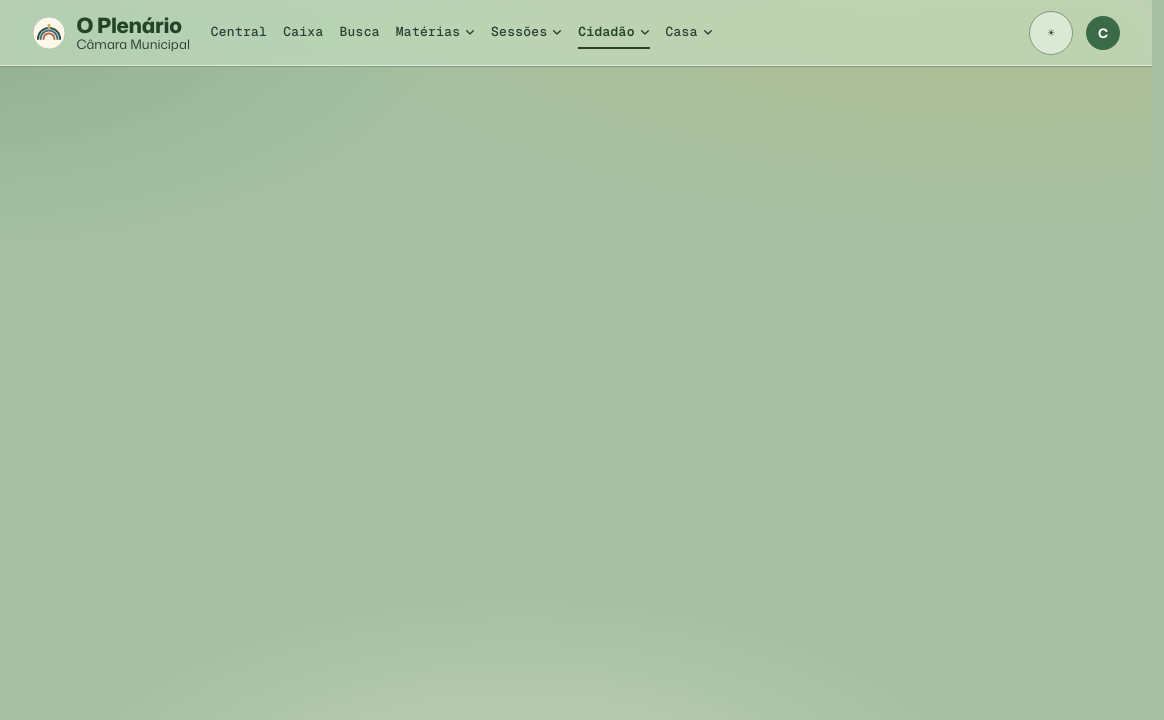
TopoInterno › o grupo aberto fecha no Esc (o foco volta ao botão) e no clique fora da barra
The width and height of the screenshot is (1164, 720).
Click the button "Casa". click: (689,33)
box: [666,17,712,49]
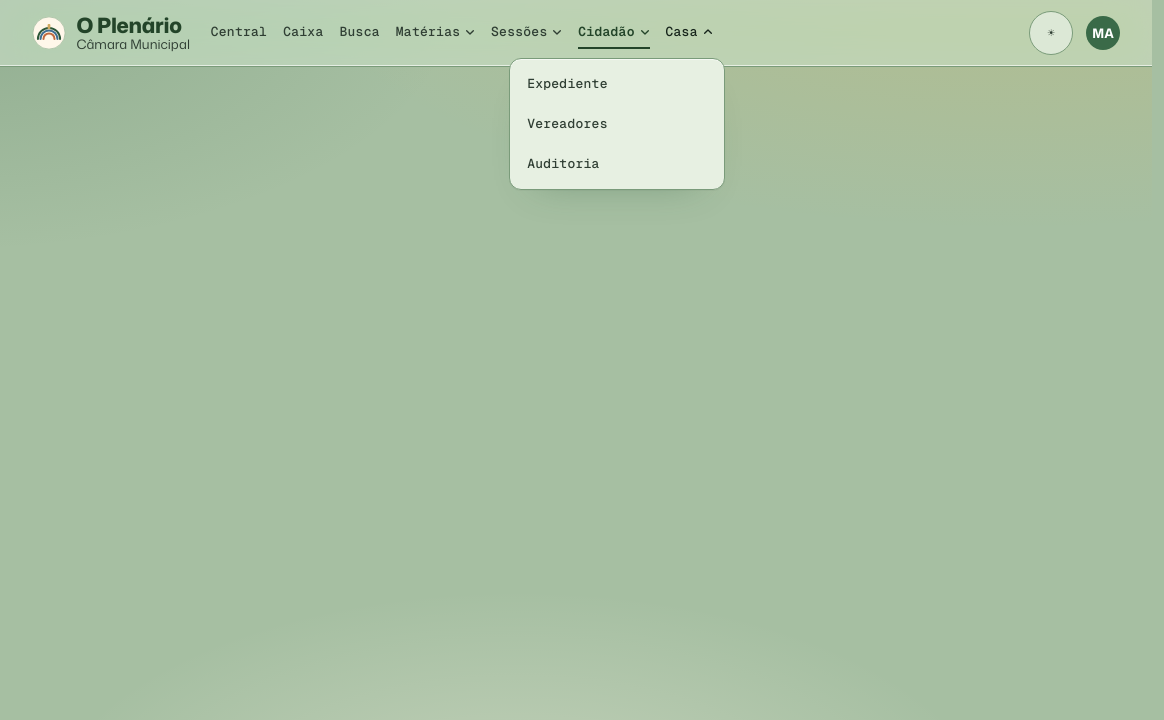
Now the link "Vereadores" is shown, box [527,115,608,132]
Press Escape
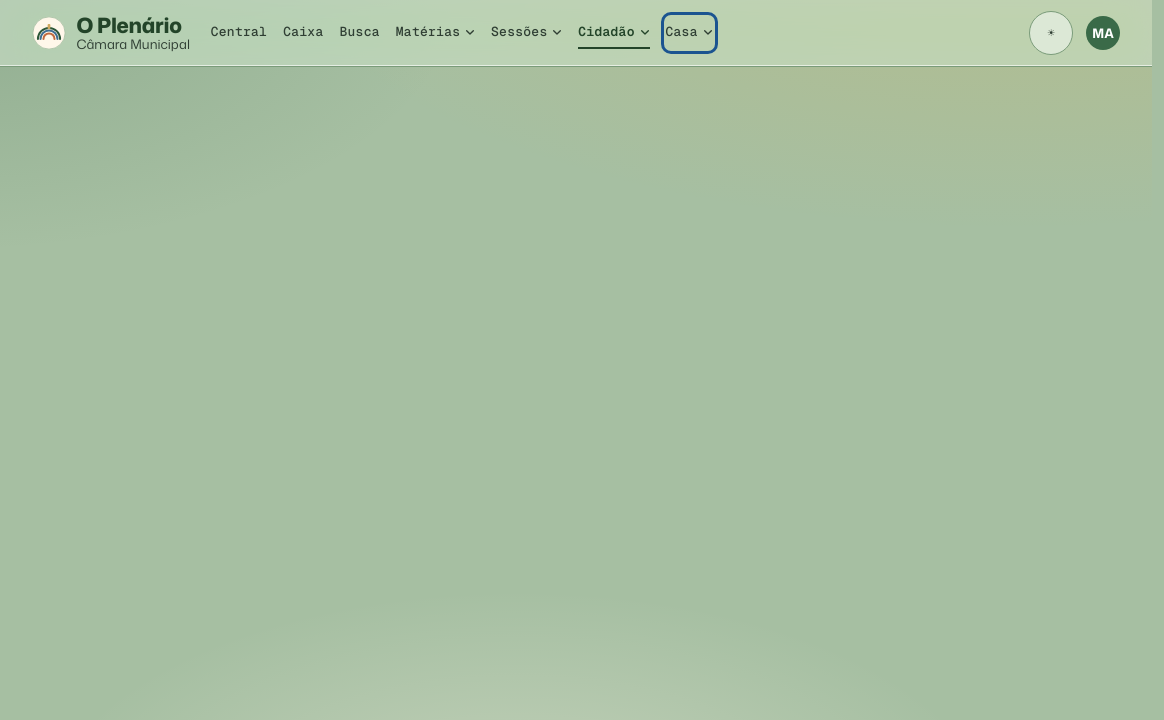
Now the button "Casa" is collapsed
Now the link "Vereadores" is gone
Click the button "Casa". click: (689,33)
box: [666,17,712,49]
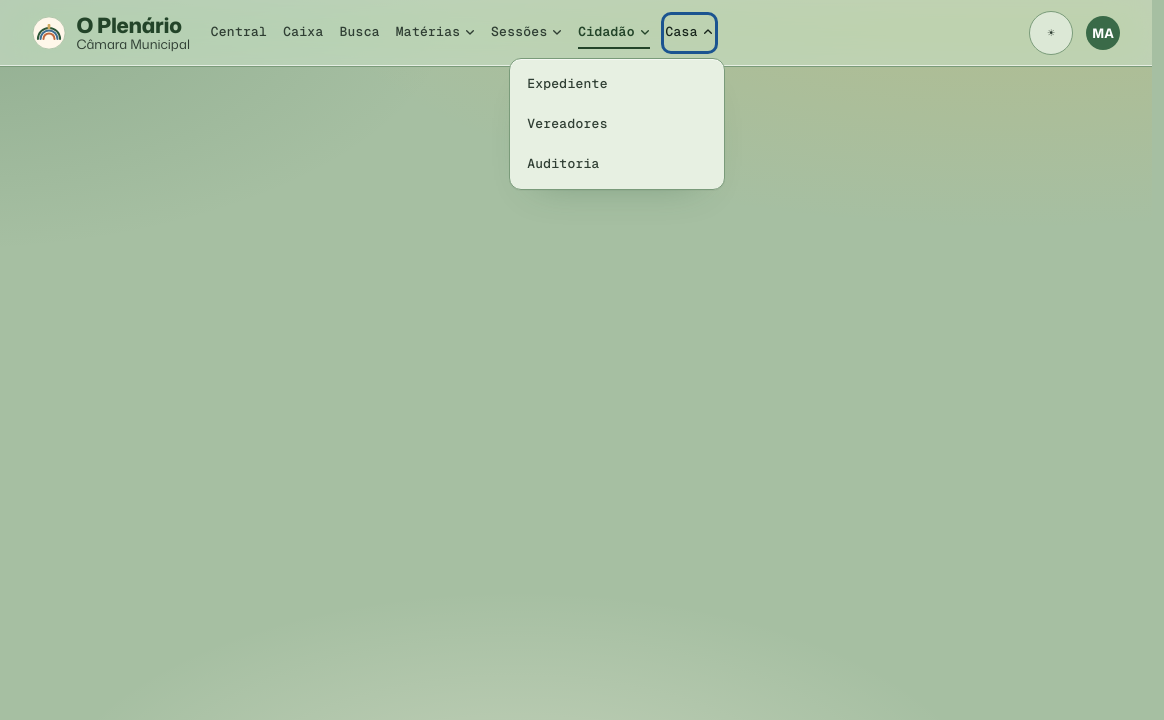
Press the mouse on the element that starts with "O Plenário" at (576,34), box [0,0,1152,67]
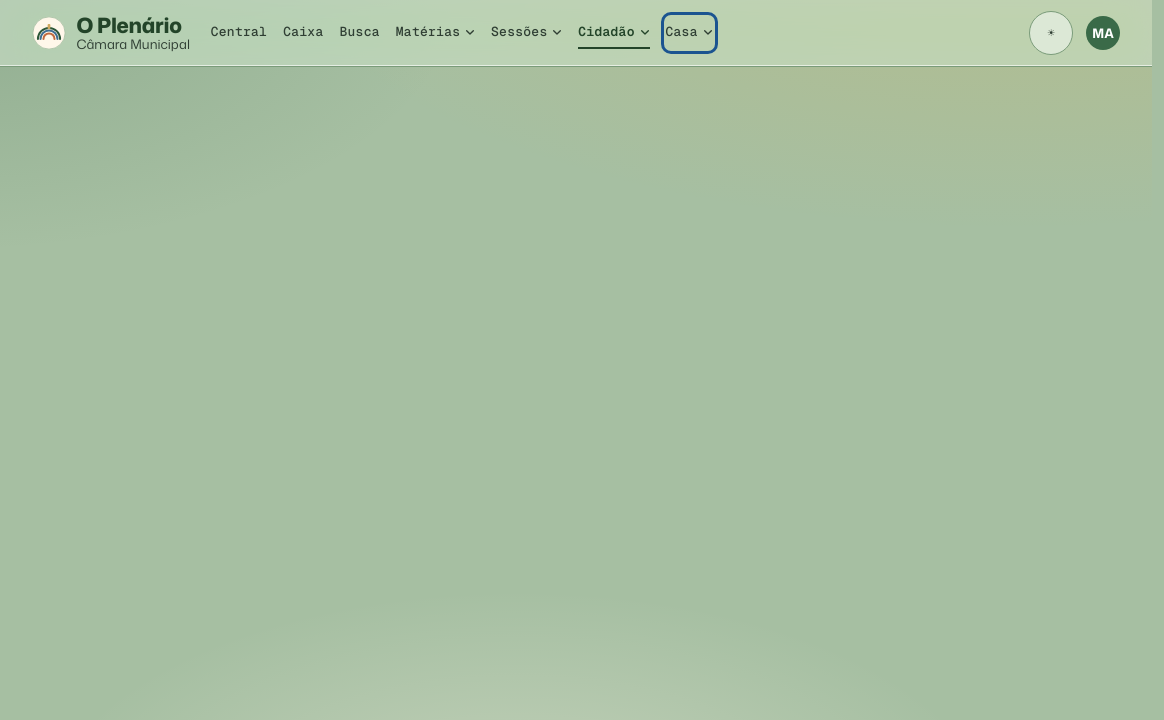
Now the button "Casa" is collapsed, box [666,17,712,49]
